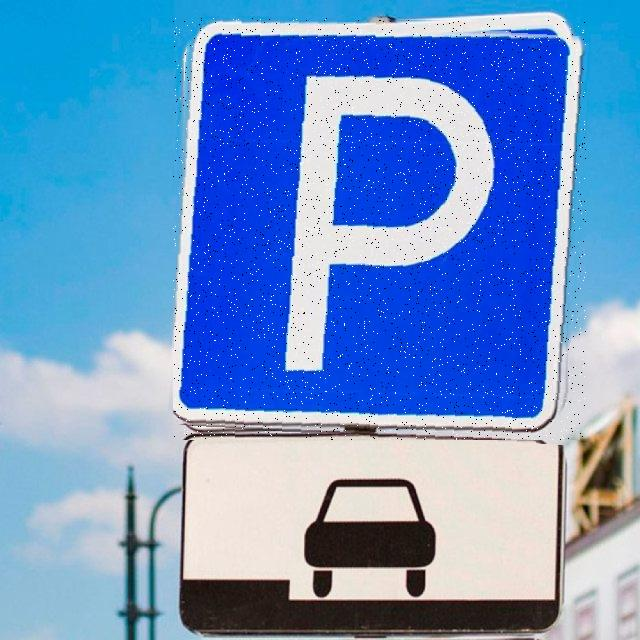parking: (173, 18, 586, 440)
